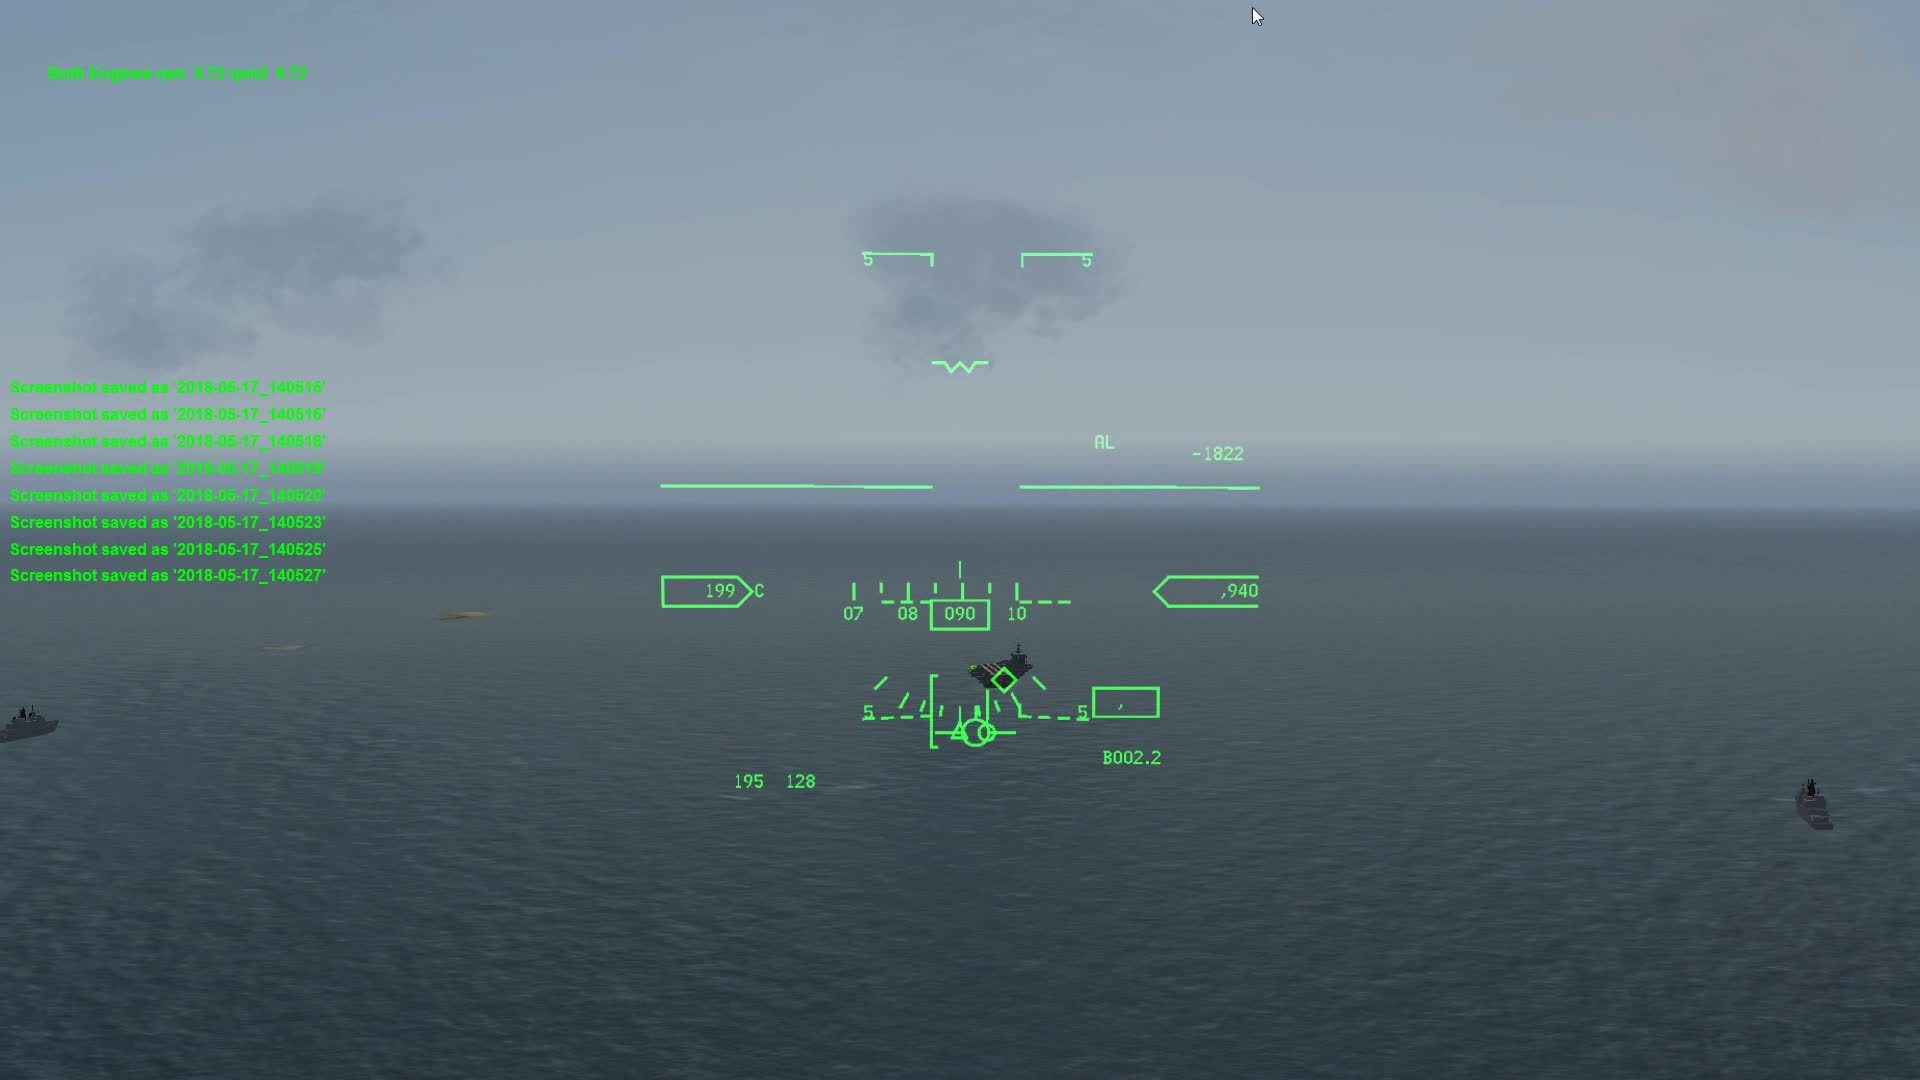speed vector: (943, 704, 1030, 756)
